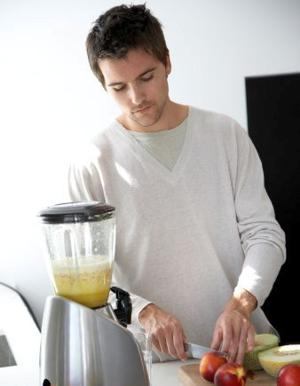person: (67, 3, 288, 371)
